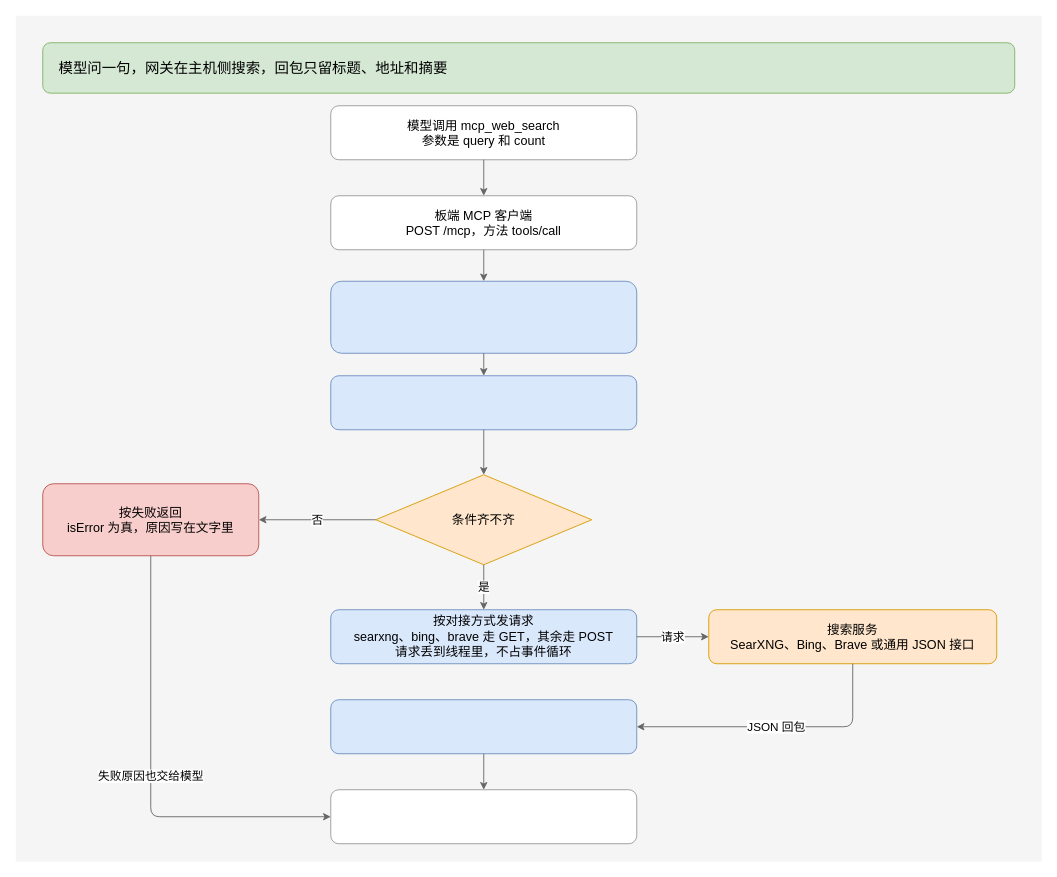
The diagram is 1057 pixels wide and 877 high, and some of its shapes have lost their labels. Here are the shapes that lost their labels. From the top down, the centre of each, then its label:
At [483,316]: "用例层按工具名找到 web_search 工具表里只有 Tool 一种对象 代码在 tools/user_tools/web_search_tool.py".
At [483,402]: "校验参数与地址 query 不能空，搜索服务地址要配过".
At [483,726]: "解出标题、地址和摘要 取第一个带链接的列表，摘要清到 400 字符".
At [483,816]: "裁剪层裁回包，板端拼成一段文本交回模型".
